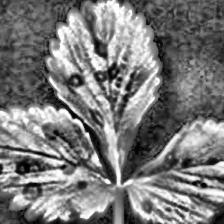Leaf Spot: (43, 0, 165, 183), (0, 104, 120, 224), (126, 114, 224, 224)
